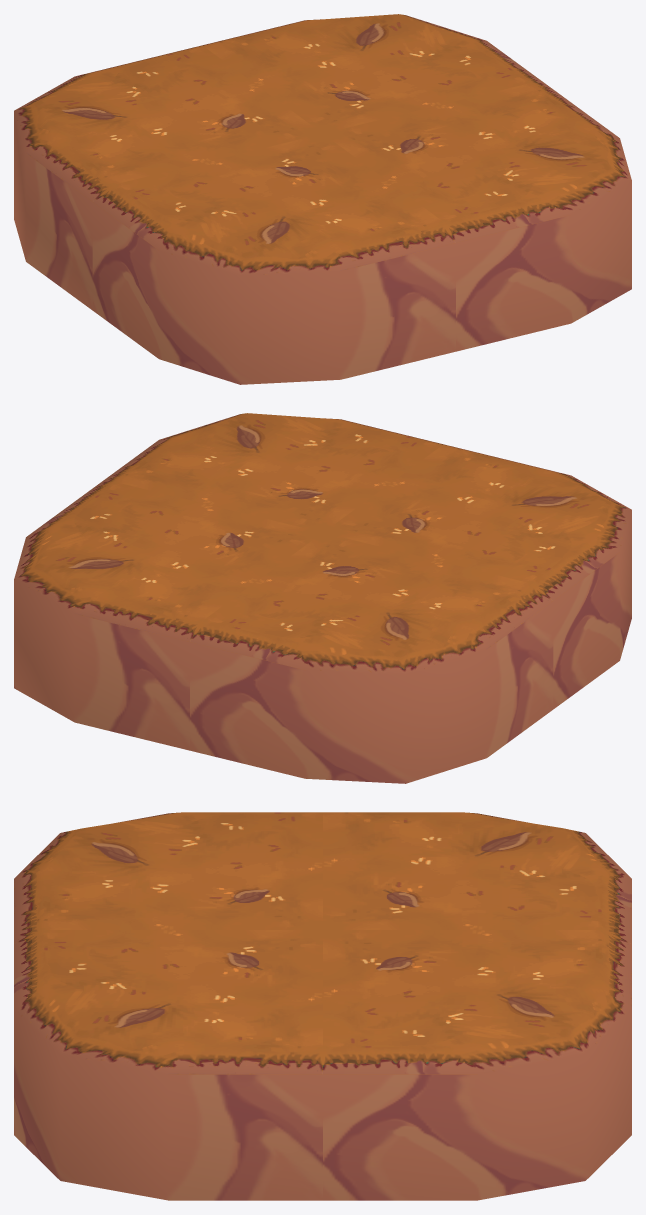
File: platform.gltf
The picture shows the model from 3 angles, top to bottom: view 1: azimuth 30°, elevation 25°; view 2: azimuth 150°, elevation 25°; view 3: azimuth 270°, elevation 25°; orthographic projection. The views are drawn at different scales.
Visible parts, largest first — view 1: GroundPlatformMesh; view 2: GroundPlatformMesh; view 3: GroundPlatformMesh.
Boxes of the visible parts, x1=… form: GroundPlatformMesh: x1=14, y1=14, x2=631, y2=384; GroundPlatformMesh: x1=14, y1=413, x2=631, y2=783; GroundPlatformMesh: x1=14, y1=812, x2=631, y2=1200.
Bounding box in the file's own units: 2 × 0.5 × 2.
Materials: 1 (1 with a texture image).
